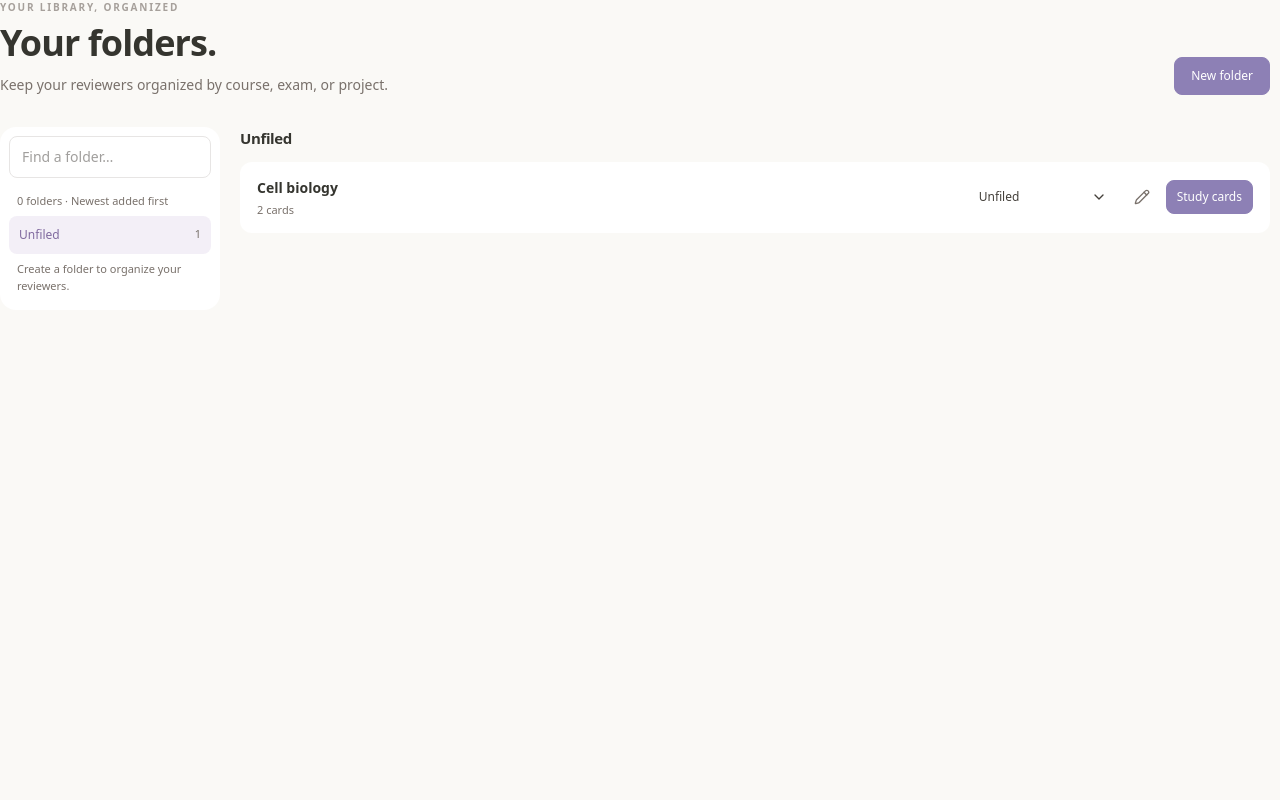
it: failed asynchronous folder saves preserve the editor and selection
Click the button "New folder" at (1222, 76), box [1174,57,1270,95]
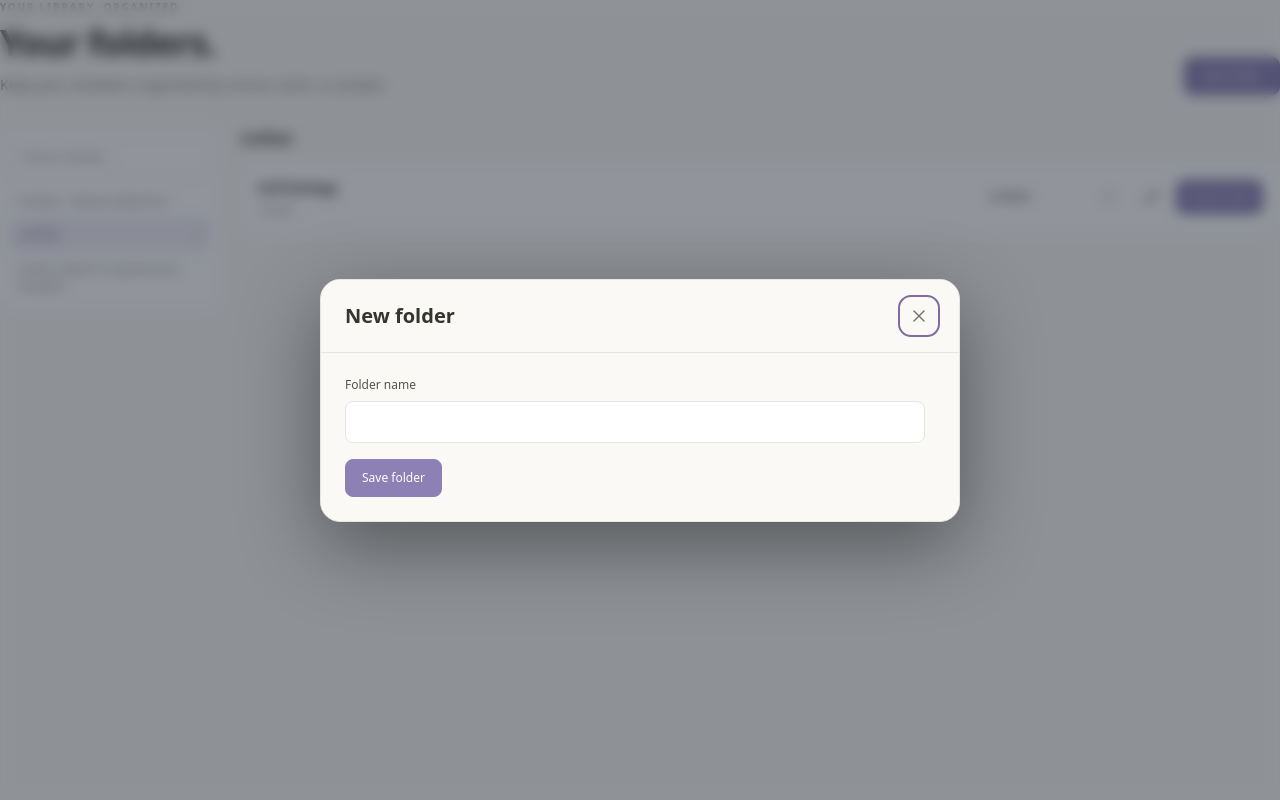
Type "Exam" into the field labelled "Folder name" at (635, 422), box [345,400,925,442]
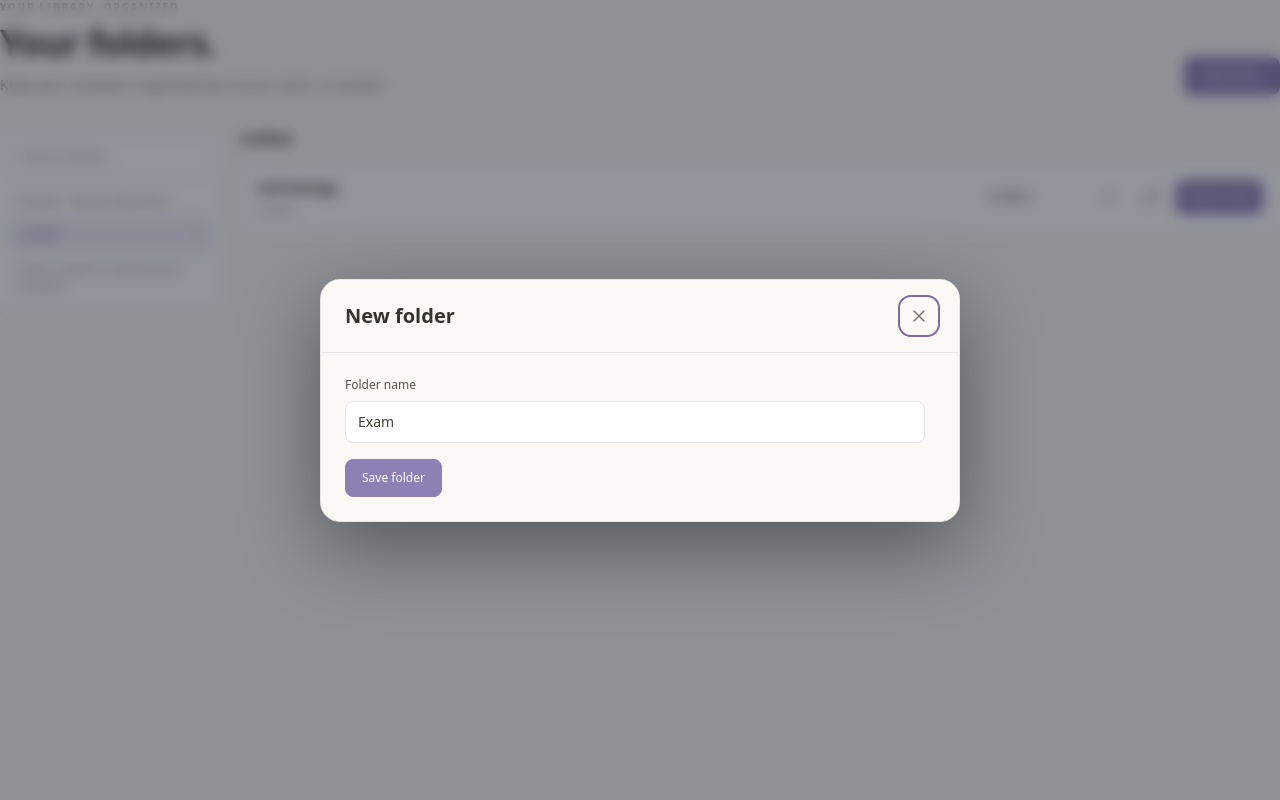
Click the button "Save folder" at (393, 478), box [345,458,442,496]
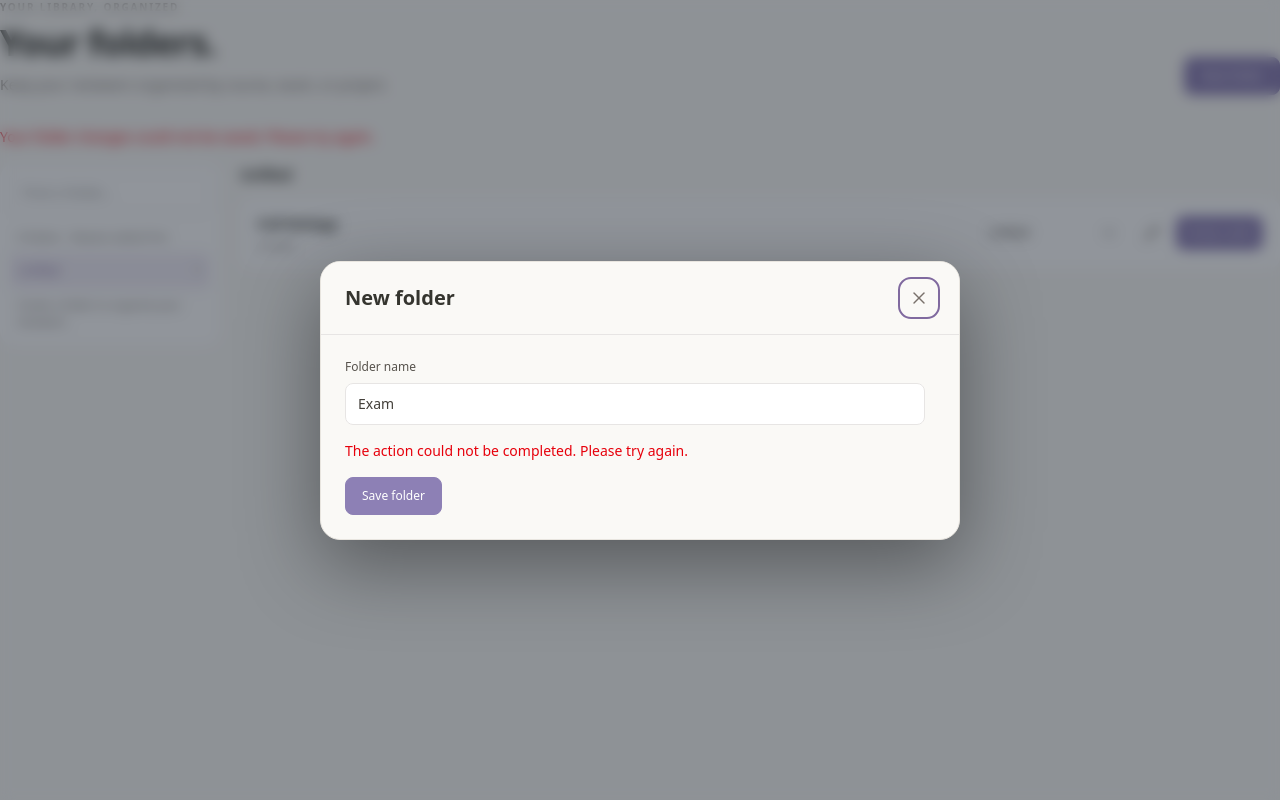
Expected: the dialog is shown, [320,260,960,540]
Expected: the text "Your folder changes could not be saved. Please try again." is shown, [0,127,375,146]
